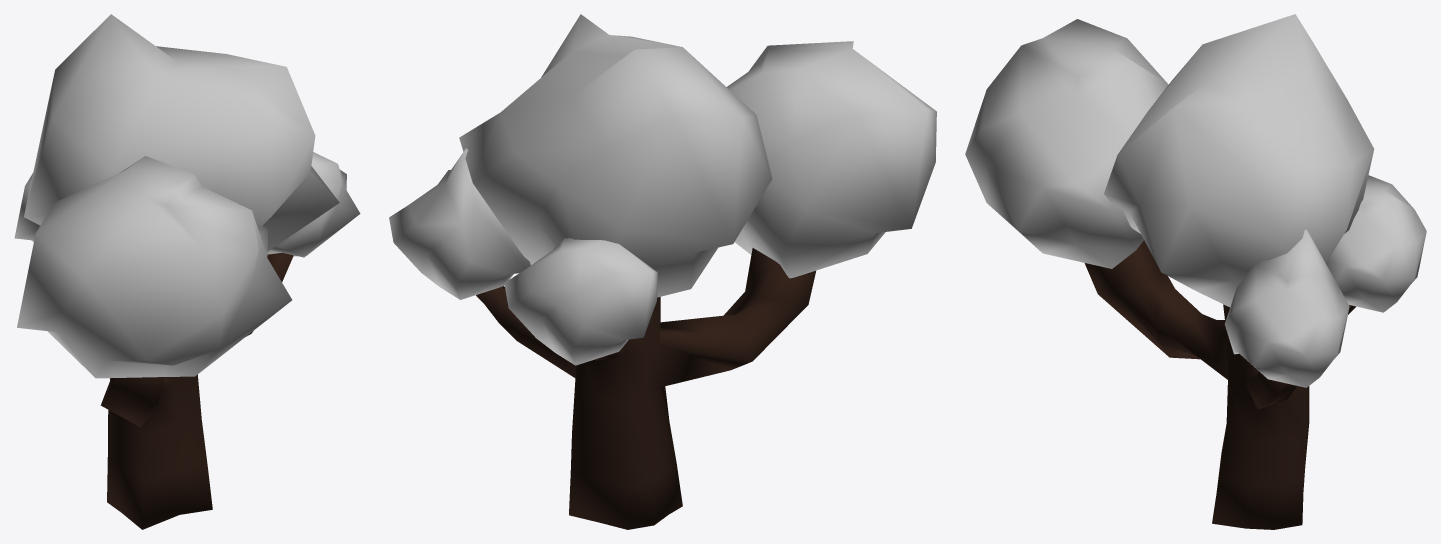
The model's file is Arbol_Nevado.fbx.
3 views of the same model, side by side, from view 1: azimuth 30°, elevation 25°; view 2: azimuth 150°, elevation 25°; view 3: azimuth 270°, elevation 25° (orthographic).
Visible parts, largest first — view 1: Arbol.002; view 2: Arbol.002; view 3: Arbol.002.
Part boxes in pixels (left/top/right/bottom): Arbol.002: left=14, top=14, right=360, bottom=529; Arbol.002: left=389, top=14, right=936, bottom=529; Arbol.002: left=965, top=14, right=1426, bottom=529.
Size of the model in its own units: 1240 by 1345 by 1159.
